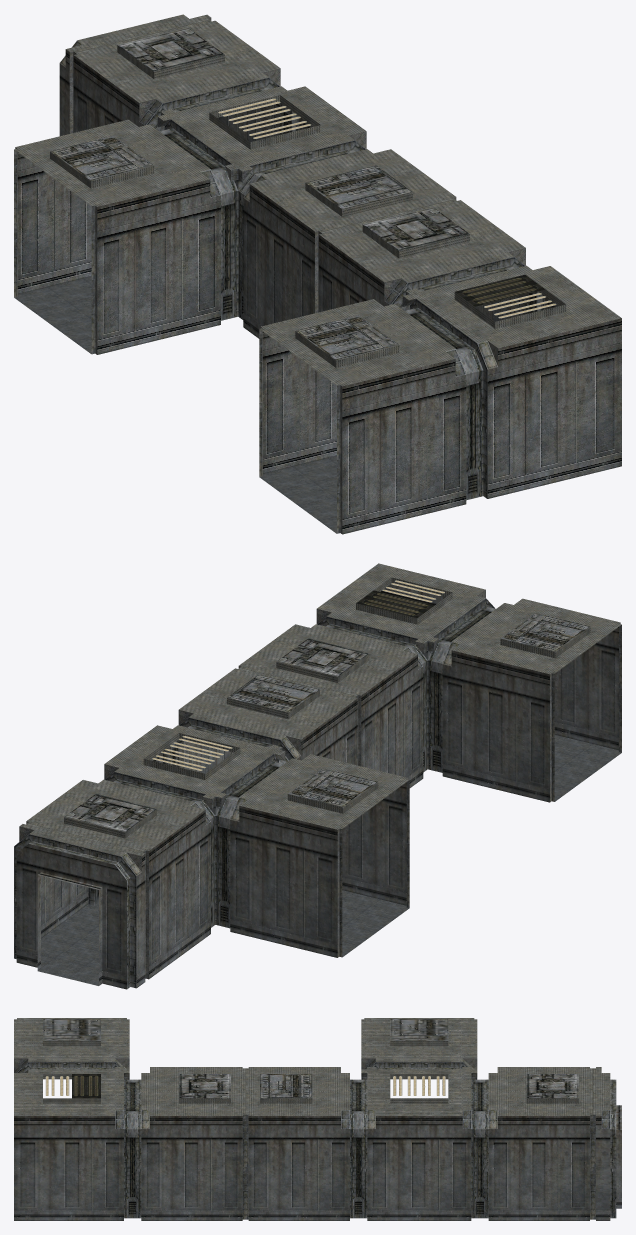
Rendered from poi_all_impl_bunker_abandoned_s01_r8_hall1_mesh.fbx.
The picture shows the model from 3 angles, top to bottom: view 1: azimuth 30°, elevation 25°; view 2: azimuth 150°, elevation 25°; view 3: azimuth 270°, elevation 25°; orthographic projection. The views are drawn at different scales.
Parts seen in each view (by area): view 1: mesh_node; view 2: mesh_node; view 3: mesh_node.
Part boxes in pixels (x1,y1,x2,y2): mesh_node: [14, 14, 621, 534]; mesh_node: [14, 563, 621, 989]; mesh_node: [14, 1018, 621, 1220].
Size of the model in its own units: 8 by 4.2 by 21.
